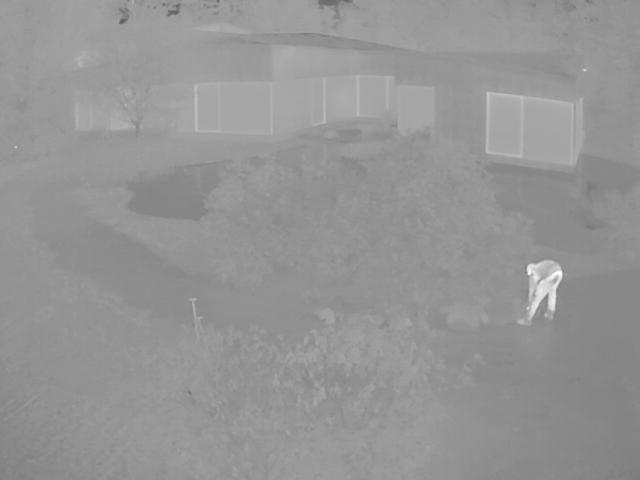person: (518, 259, 564, 325)
